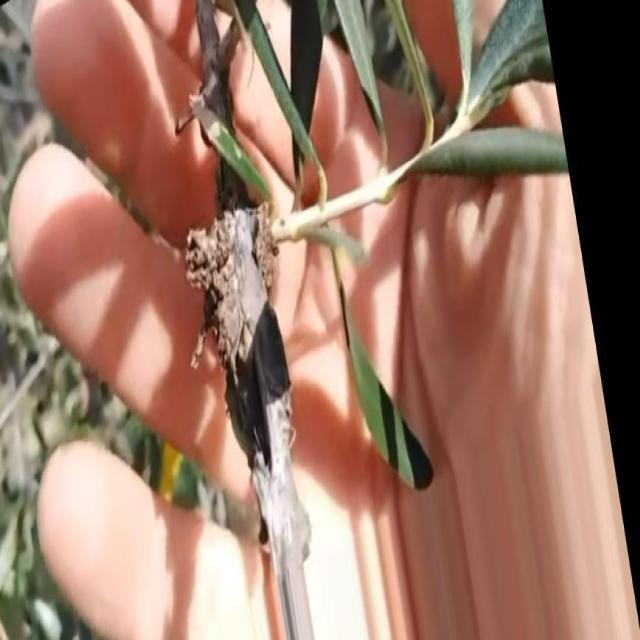Tuberculosis: (185, 212, 239, 374), (253, 202, 280, 298)
